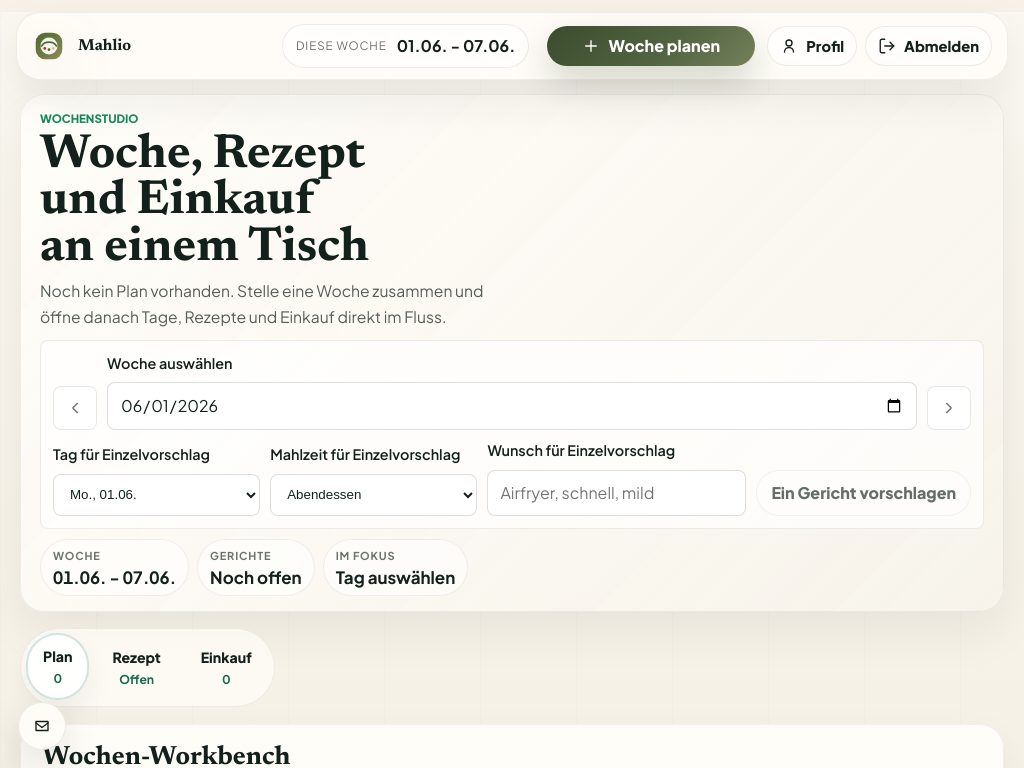
Test: Mealplanner app › keeps the dashboard visible when logout fails
Click the button "Abmelden".
click(929, 46)  # box top-left (865, 26), bottom-right (992, 66)
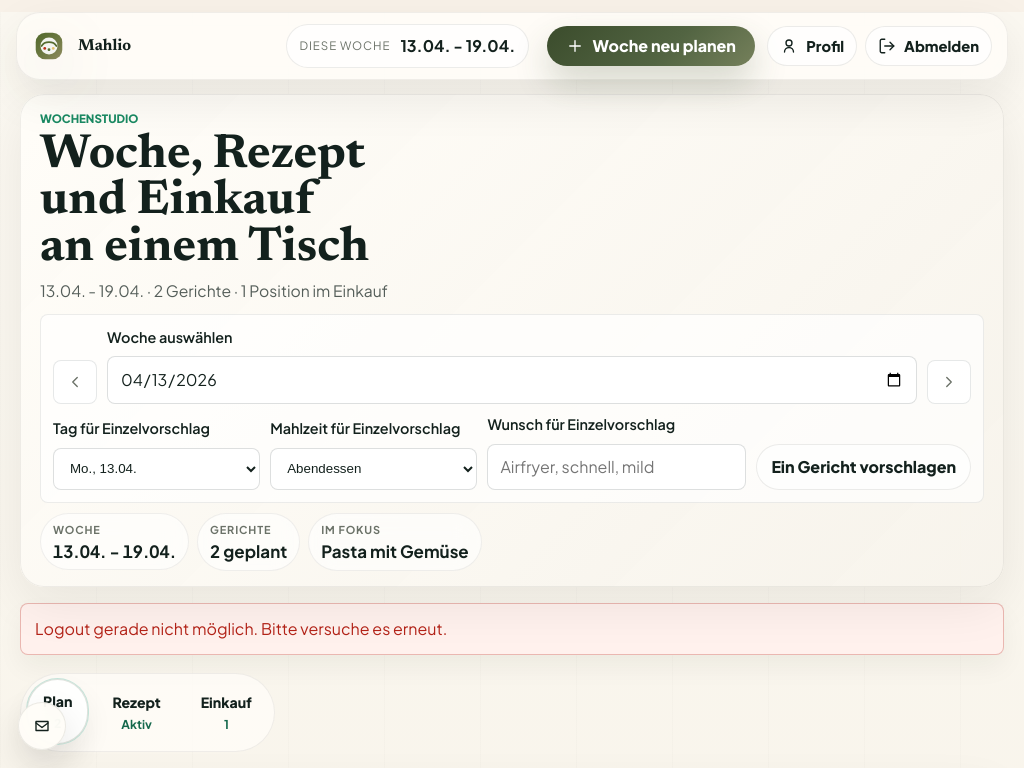
Check: the heading "Woche, Rezept und Einkauf an einem Tisch" is shown, box top-left (40, 132), bottom-right (369, 273)
Check: the message shows "Logout gerade nicht möglich", box top-left (35, 618), bottom-right (447, 639)
